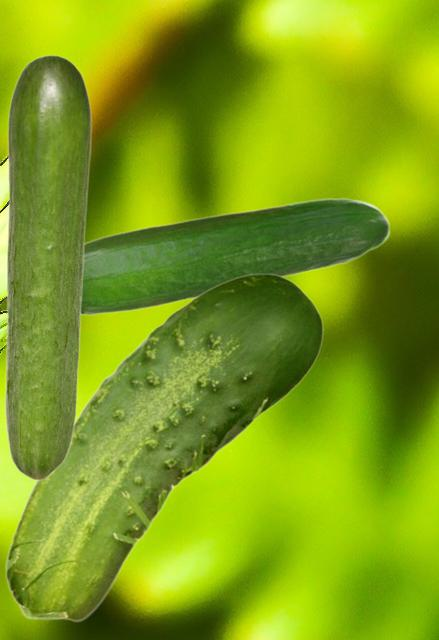cucumber: (4, 273, 322, 621), (4, 54, 91, 480), (82, 197, 389, 315)
